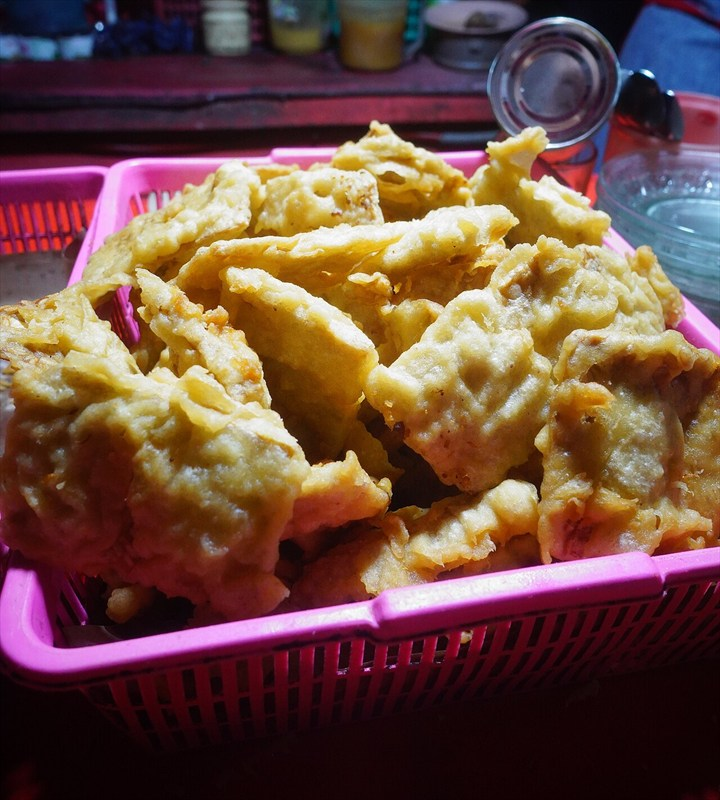Tempe Goreng: (60, 132, 664, 655)
